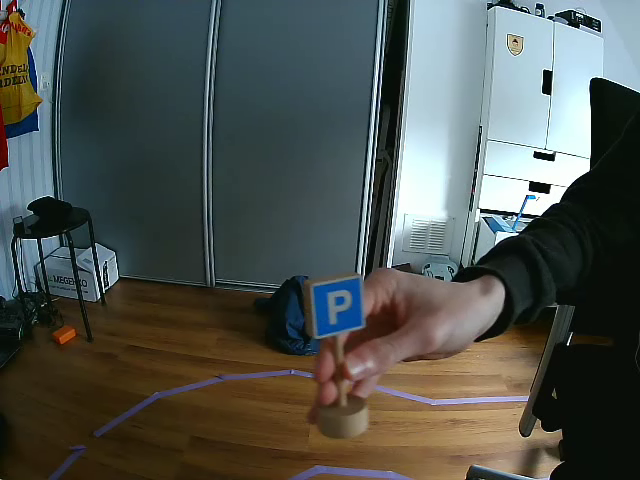parkeerbord: (310, 272, 368, 339)
